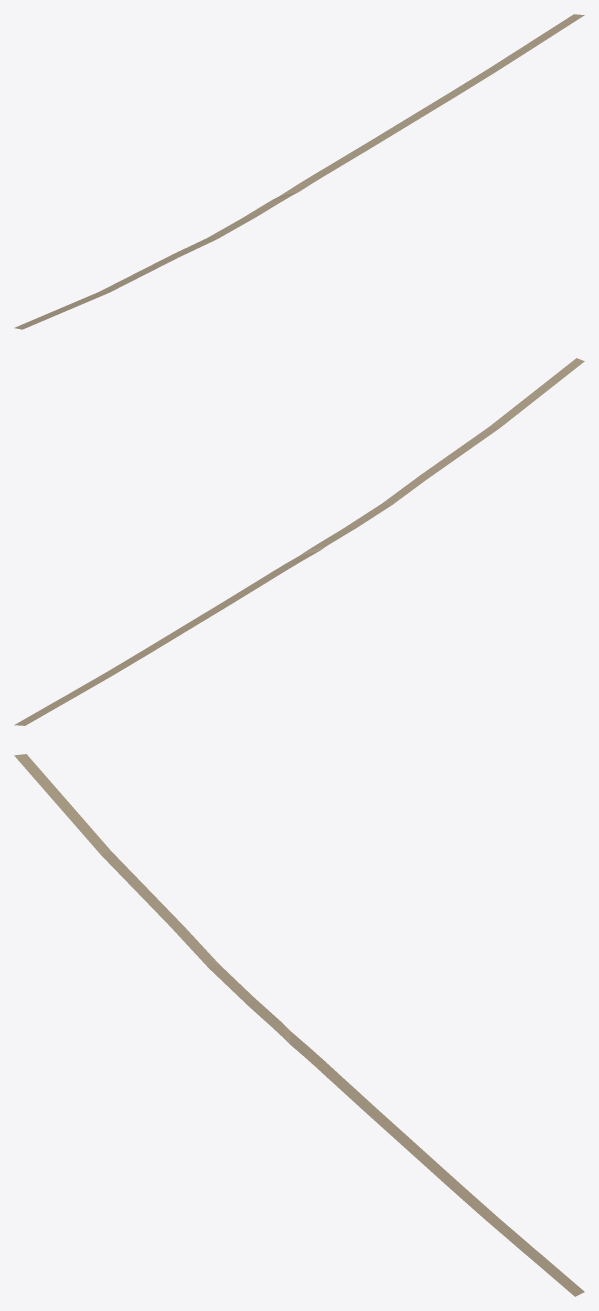
The model's file is farm_3_8_track.glb.
3 renders of one model, top to bottom at view 1: azimuth 30°, elevation 25°; view 2: azimuth 210°, elevation 25°; view 3: azimuth 270°, elevation 25°, orthographic. The views are drawn at different scales.
Visible parts, largest first — view 1: geometry_0; view 2: geometry_0; view 3: geometry_0.
Part boxes in pixels (left/top/right/bottom): geometry_0: left=14, top=14, right=584, bottom=329; geometry_0: left=14, top=358, right=584, bottom=725; geometry_0: left=14, top=754, right=584, bottom=1296.
Size of the model in its own units: 286 by 10.52 by 136.
